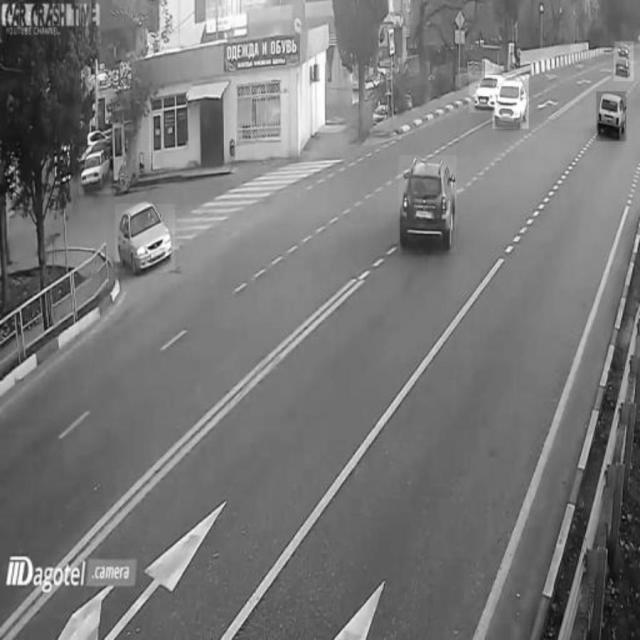vehicle: (399, 155, 456, 253), (115, 204, 175, 272), (493, 75, 529, 129), (80, 147, 112, 194), (597, 91, 627, 141), (469, 71, 499, 112), (614, 42, 634, 82)
